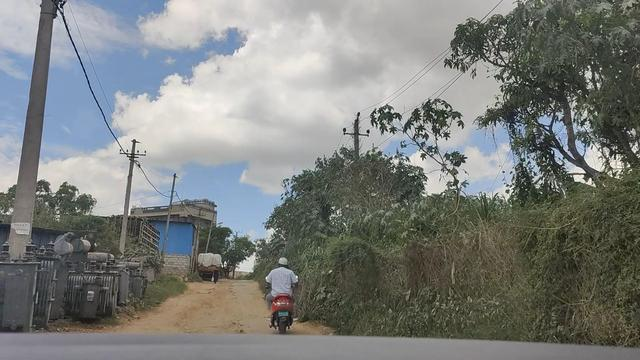HMV: (194, 249, 228, 288)
LMV: (262, 255, 304, 336)
UnsurfacedRoad: (162, 291, 255, 337)
